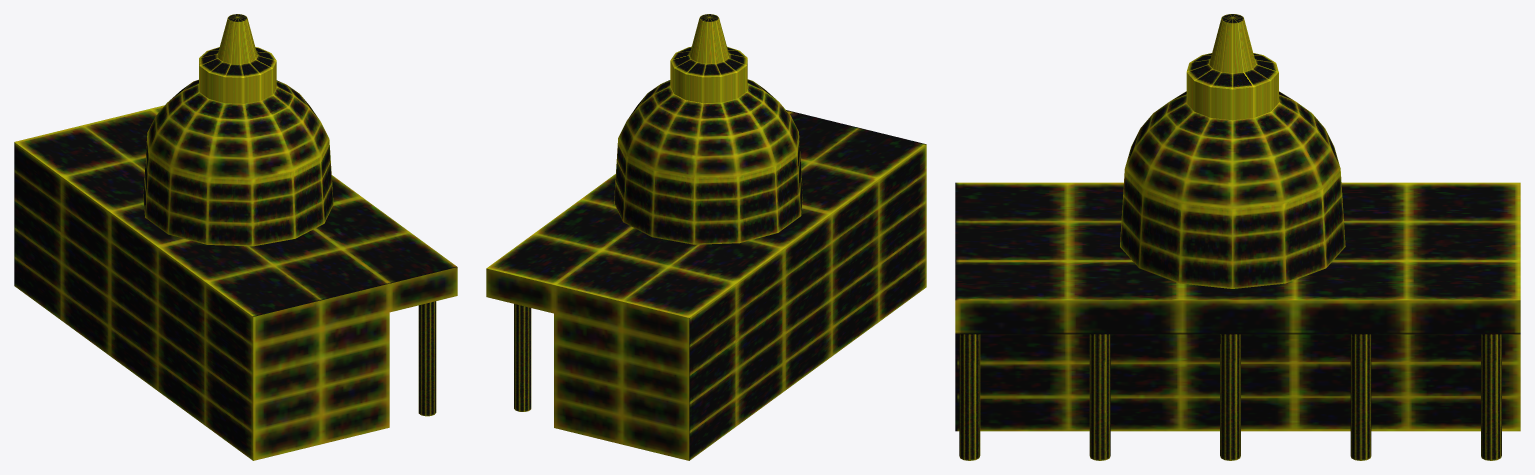
File: CapitalBuilding_Yellow.fbx
3 views of the same model, side by side, from view 1: azimuth 30°, elevation 25°; view 2: azimuth 150°, elevation 25°; view 3: azimuth 270°, elevation 25° (orthographic). The views are drawn at different scales.
Parts seen in each view (by area): view 1: CapitalBuilding_Yellow; view 2: CapitalBuilding_Yellow; view 3: CapitalBuilding_Yellow.
Boxes of the visible parts, x1=… form: CapitalBuilding_Yellow: x1=14, y1=14, x2=457, y2=460; CapitalBuilding_Yellow: x1=486, y1=14, x2=926, y2=460; CapitalBuilding_Yellow: x1=955, y1=14, x2=1520, y2=460.
Size of the model in its own units: 11.77 by 18.32 by 23.83.
